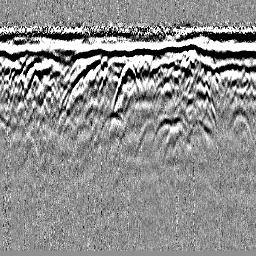cavity: (109, 58, 145, 114)
